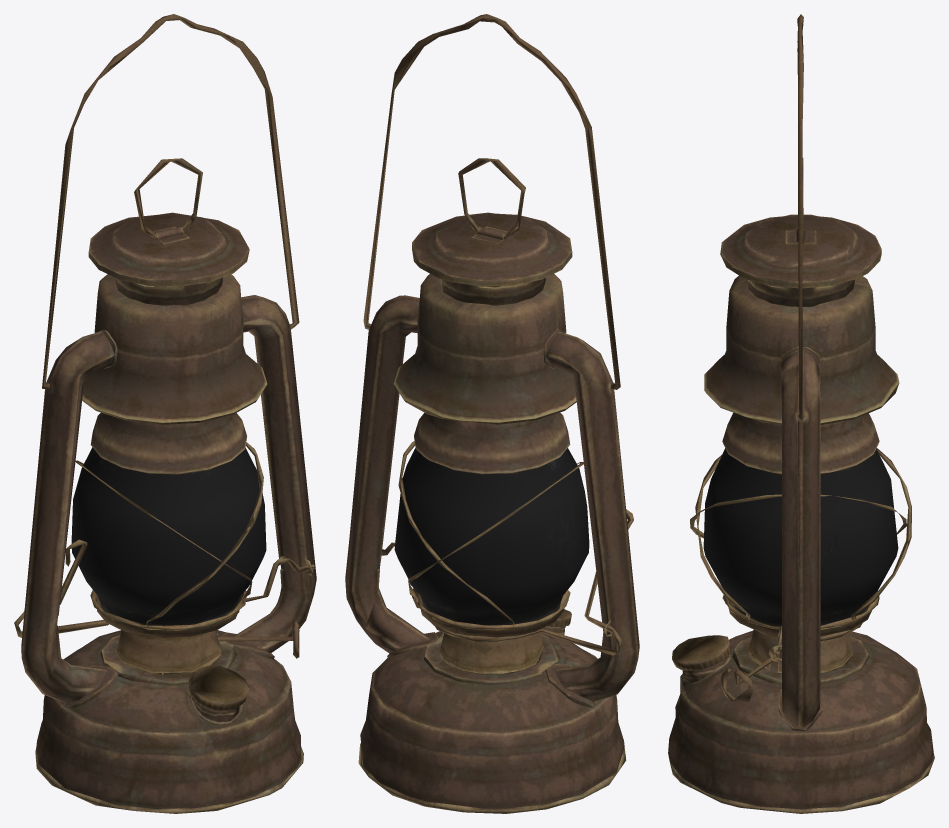
File: lantern.glb
3 renders of one model, left to right at view 1: azimuth 30°, elevation 25°; view 2: azimuth 150°, elevation 25°; view 3: azimuth 270°, elevation 25°, orthographic.
Visible parts, largest first — view 1: Lantern_01, Lantern_01_glass; view 2: Lantern_01, Lantern_01_glass; view 3: Lantern_01, Lantern_01_glass.
Part boxes in pixels (box(x1,y1,x2,y2)): Lantern_01: box(14, 14, 316, 813); Lantern_01_glass: box(71, 447, 266, 625); Lantern_01: box(345, 14, 639, 813); Lantern_01_glass: box(394, 448, 589, 625); Lantern_01: box(668, 14, 934, 813); Lantern_01_glass: box(703, 448, 898, 626).
Size of the model in its own units: 0.1219 by 0.2939 by 0.096.
Materials: 2 (2 with a texture image).
